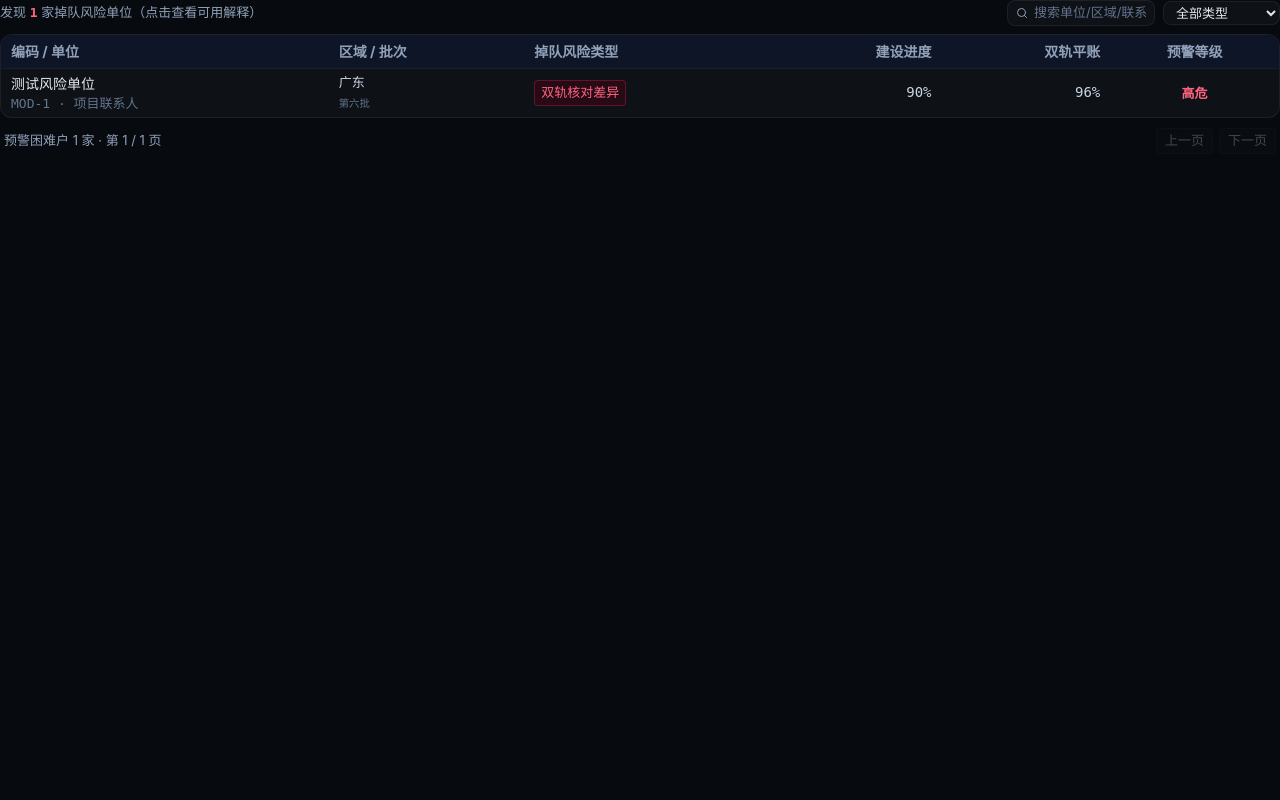
Test case: AtRiskUnitTable explanation provenance › labels deterministic fallback as rule-based and never as SHAP
The width and height of the screenshot is (1280, 800).
Click the row "测试风险单位 MOD-1 · 项目联系人 广东 第六批 双轨核对差异 90% 96% 高危": (53, 83) [1,68,1279,117]
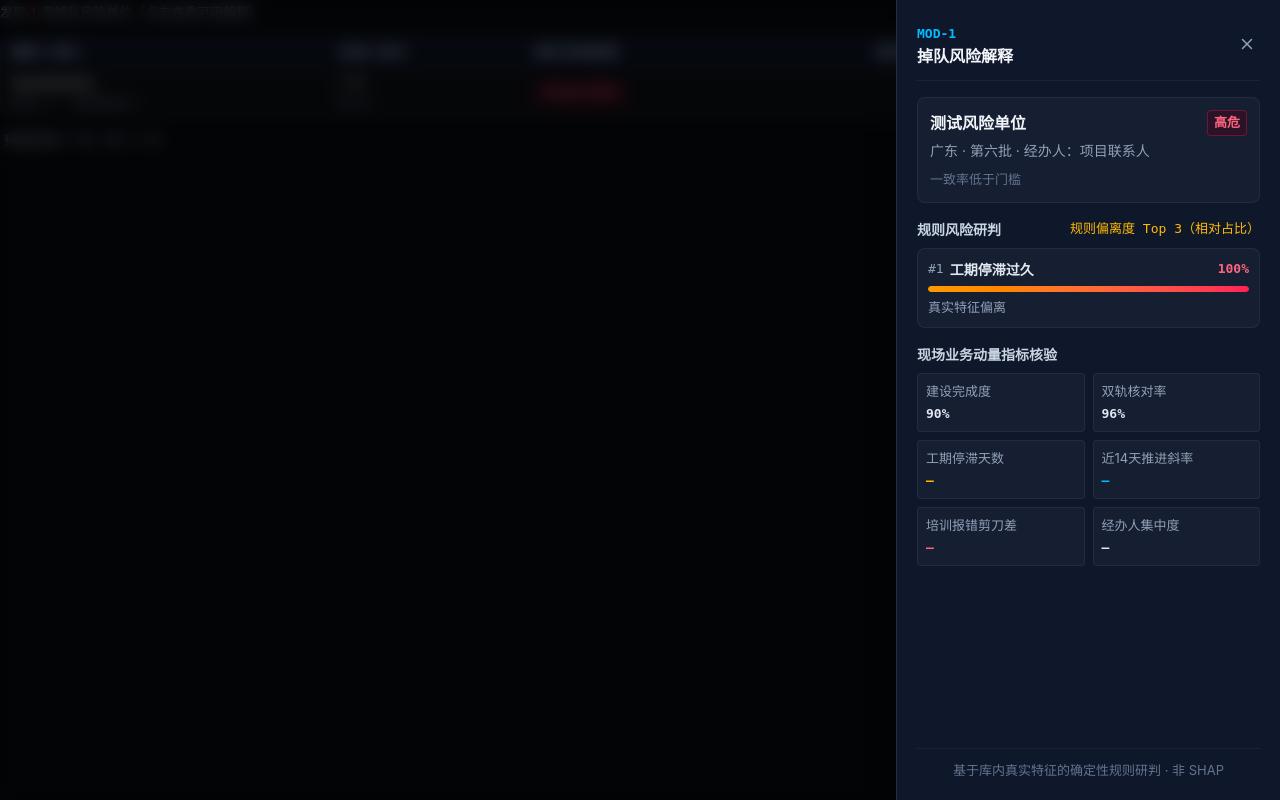
Now the text "规则风险研判" is shown, box [917,219,1001,240]
Now the text "规则偏离度 Top 3" is shown, box [1070,221,1260,236]
